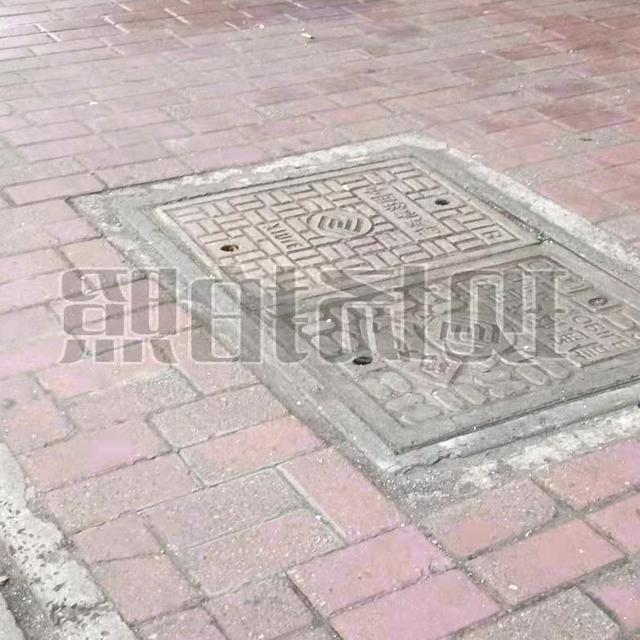good: (110, 143, 640, 476)
